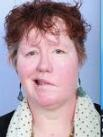strokeEyeWeak: (23, 44, 68, 60)
strokeMouthSevere: (31, 76, 60, 93)
